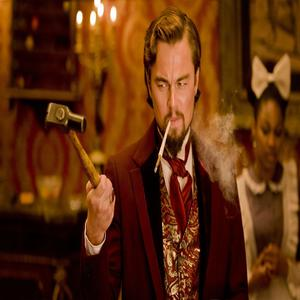cigarette: (152, 150, 163, 174)
